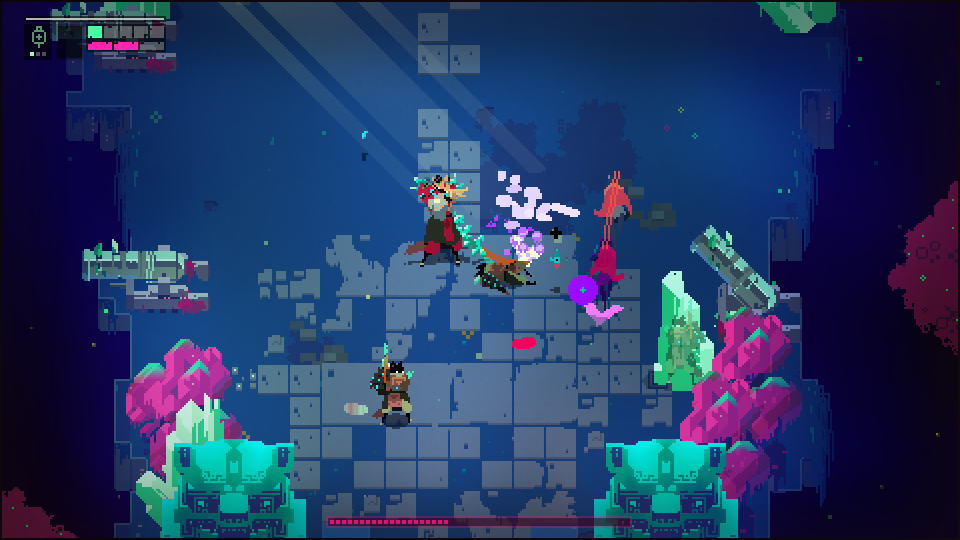hanged_man: (407, 171, 477, 266)
hanged_shot: (567, 274, 600, 308)
player: (594, 171, 633, 224)
